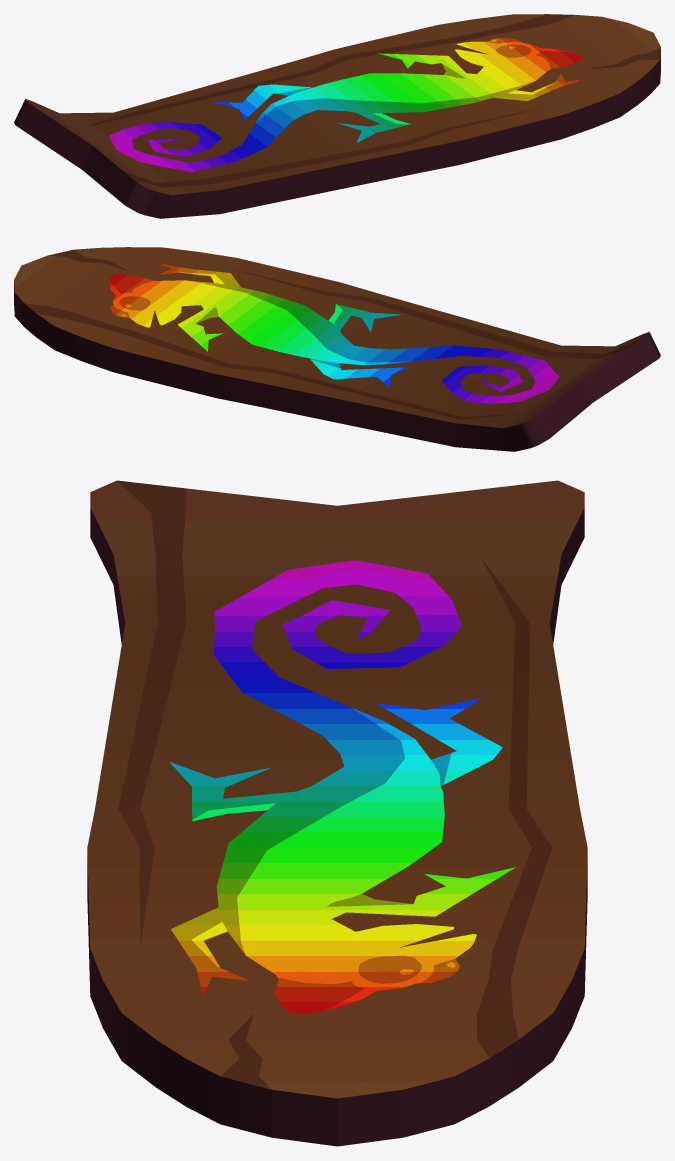
The model's file is MadagascarBoard.glb.
The picture shows the model from 3 angles, top to bottom: view 1: azimuth 30°, elevation 25°; view 2: azimuth 150°, elevation 25°; view 3: azimuth 270°, elevation 25°; orthographic projection. The views are drawn at different scales.
Visible parts, largest first — view 1: MadagascarBoard; view 2: MadagascarBoard; view 3: MadagascarBoard.
Part boxes in pixels (x1,y1,x2,y2): MadagascarBoard: (14,14,660,218); MadagascarBoard: (14,247,660,451); MadagascarBoard: (87,480,587,1146).
Bounding box in the file's own units: 8.43 × 0.8103 × 3.13.
1 material, 1 textured.
